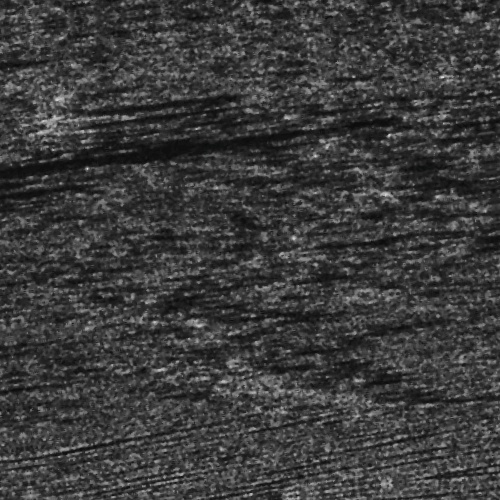object: (10, 97, 125, 108)
shadow: (68, 97, 231, 108), (0, 136, 323, 137)
